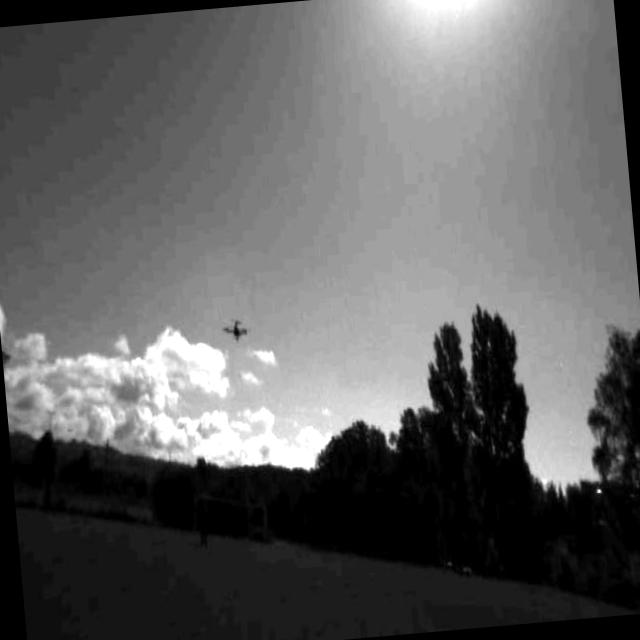drone: (220, 310, 247, 348)
